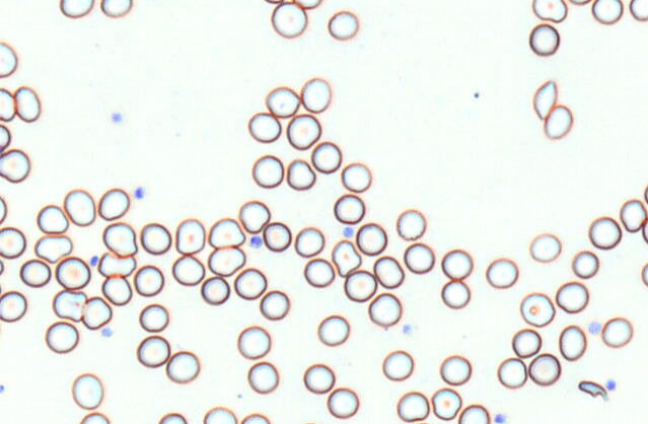PLT: (587, 320, 603, 335), (249, 233, 263, 248), (341, 225, 356, 238), (494, 412, 509, 424), (101, 324, 114, 337), (111, 112, 123, 125), (87, 253, 99, 265), (134, 186, 145, 199), (403, 322, 412, 336), (605, 380, 616, 390), (0, 382, 6, 396)
RBC: (271, 1, 307, 38), (286, 113, 321, 149), (519, 292, 555, 327), (102, 221, 137, 257), (63, 188, 96, 226), (368, 292, 402, 327), (55, 255, 90, 289), (71, 372, 103, 409), (237, 325, 271, 359), (165, 350, 200, 383), (208, 217, 245, 248), (331, 239, 361, 277), (207, 246, 245, 276), (34, 233, 72, 263), (45, 320, 79, 353), (528, 352, 561, 386), (588, 216, 622, 249), (251, 154, 284, 188), (52, 289, 87, 321), (300, 77, 331, 113), (344, 269, 377, 302), (171, 254, 205, 286), (136, 335, 170, 367), (233, 267, 267, 299), (555, 281, 589, 313), (247, 111, 281, 143), (265, 86, 300, 117), (175, 218, 205, 254), (396, 390, 429, 422), (247, 361, 279, 394), (317, 314, 350, 346), (310, 140, 342, 173), (238, 200, 270, 233), (97, 187, 129, 220), (529, 22, 560, 56), (373, 255, 404, 289), (97, 251, 136, 278), (543, 104, 573, 139), (0, 148, 30, 183), (558, 324, 586, 361), (382, 349, 414, 381), (601, 316, 633, 348), (441, 248, 473, 280), (431, 387, 462, 420), (81, 296, 112, 329), (326, 387, 359, 418), (356, 222, 387, 255), (485, 257, 518, 288), (303, 363, 335, 394), (439, 354, 471, 385), (333, 193, 365, 224), (403, 242, 434, 274), (133, 264, 164, 296), (140, 222, 171, 254), (36, 204, 69, 234), (14, 85, 40, 122), (259, 289, 290, 320), (340, 161, 371, 192), (294, 226, 325, 257), (303, 257, 335, 287), (327, 10, 359, 40), (396, 208, 426, 240), (529, 232, 561, 262), (497, 357, 527, 388), (101, 275, 132, 305), (19, 258, 51, 287), (286, 158, 315, 190), (619, 199, 647, 232), (511, 328, 541, 358), (138, 303, 169, 332), (262, 221, 291, 252), (200, 276, 230, 305), (441, 279, 470, 309), (0, 290, 27, 322), (571, 249, 599, 279), (0, 226, 26, 258), (532, 0, 567, 22), (591, 0, 623, 24), (0, 41, 17, 77), (59, 0, 93, 18), (458, 404, 490, 423), (203, 406, 237, 423), (100, 0, 132, 17), (0, 87, 15, 121), (629, 0, 648, 21), (79, 411, 109, 423), (240, 412, 270, 423), (158, 412, 187, 423), (0, 123, 10, 151), (294, 0, 321, 9), (0, 195, 7, 224), (641, 262, 647, 286), (642, 218, 647, 243), (568, 0, 591, 5), (643, 184, 648, 204), (263, 0, 283, 4), (0, 258, 4, 275)
Schistocyte: (533, 77, 557, 121), (578, 380, 608, 401)
